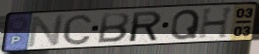B: (95, 11, 131, 44)
C: (61, 13, 95, 46)
H: (197, 6, 237, 40)
N: (26, 13, 67, 49)
Q: (169, 8, 202, 42)
R: (129, 10, 163, 44)
